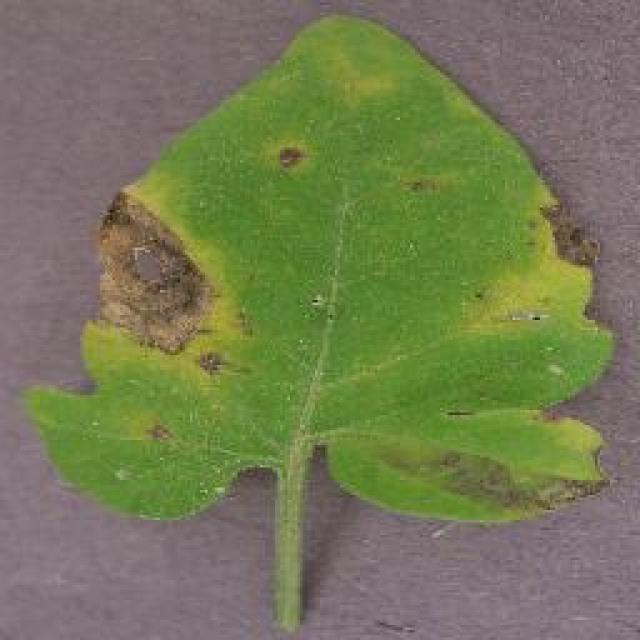Tomato Septoria spot leaf: (22, 10, 620, 520)
